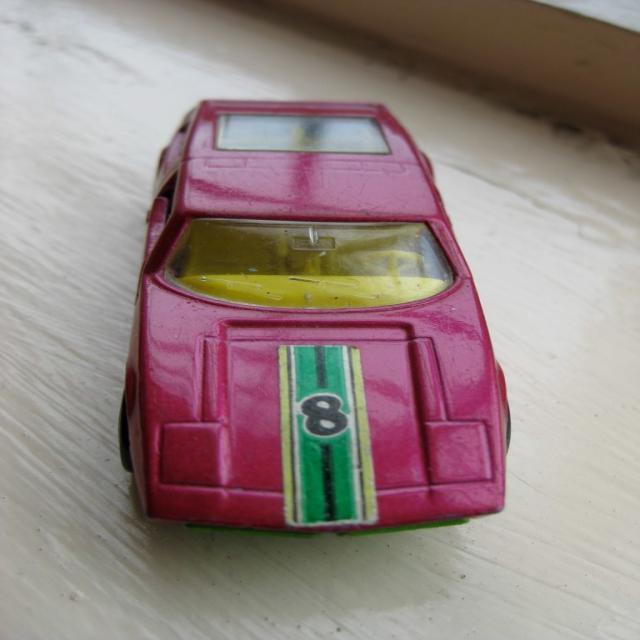car: (129, 101, 542, 518)
